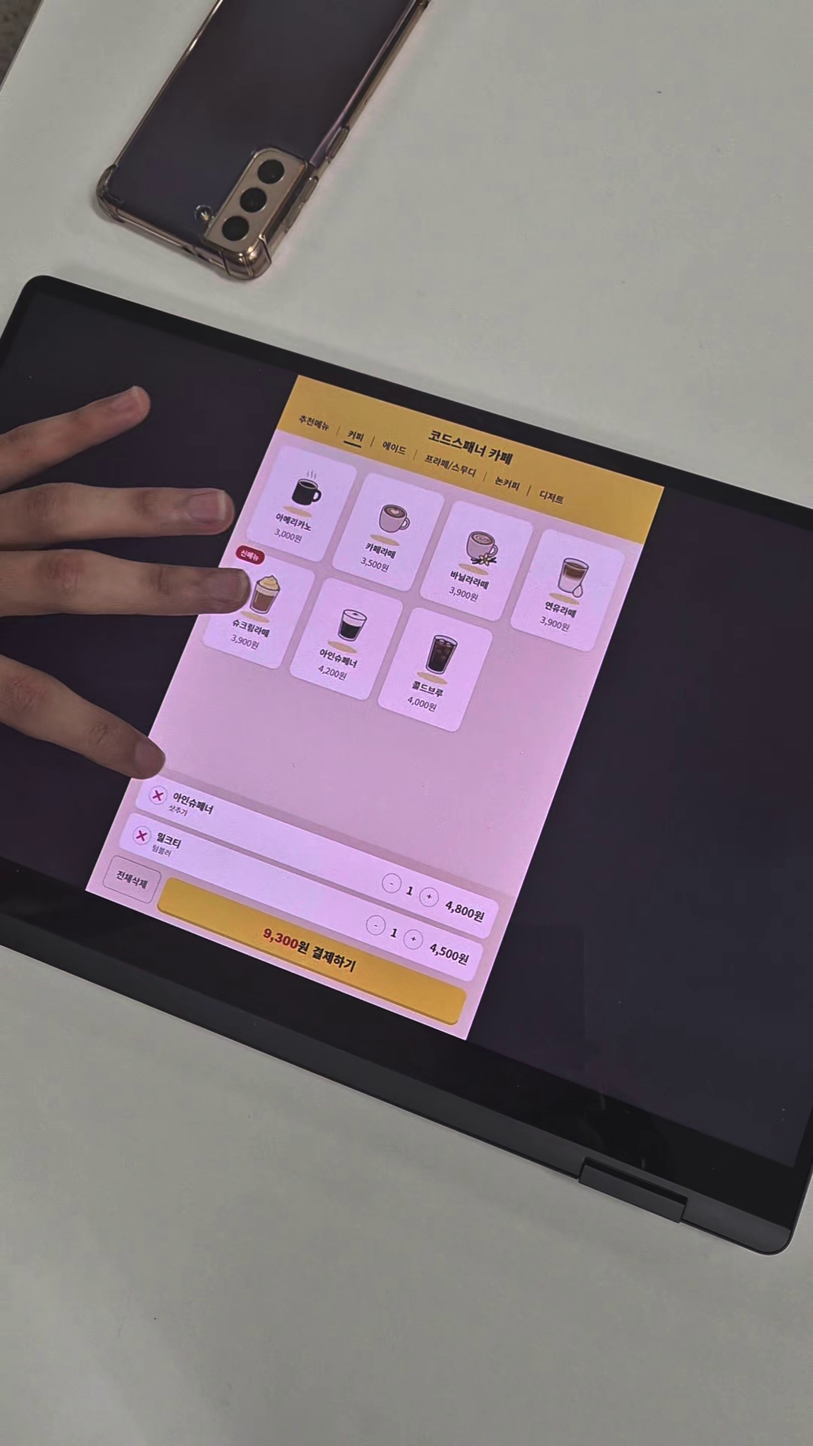action_button: (154, 875, 470, 1032), (99, 853, 164, 907)
cart_item: (130, 767, 507, 949), (116, 814, 488, 987)
category_tab: (418, 448, 483, 482), (292, 410, 337, 439), (374, 436, 413, 465), (487, 471, 528, 498), (533, 485, 570, 509), (339, 425, 373, 450)
menu_back: (188, 539, 322, 683), (499, 525, 632, 661), (368, 606, 498, 745), (279, 577, 408, 713), (408, 496, 538, 629), (238, 439, 364, 568), (327, 468, 448, 598)
menu_name: (312, 641, 366, 674), (443, 564, 497, 596), (226, 612, 278, 645), (403, 671, 452, 705), (536, 594, 585, 626), (167, 786, 218, 815), (271, 507, 316, 536), (357, 536, 402, 564), (150, 827, 189, 853)
menu_price: (434, 890, 494, 933), (425, 932, 475, 971), (442, 580, 484, 608), (532, 611, 576, 637), (400, 693, 444, 718), (222, 633, 266, 657), (312, 661, 350, 687), (356, 554, 396, 578), (269, 525, 307, 548)
